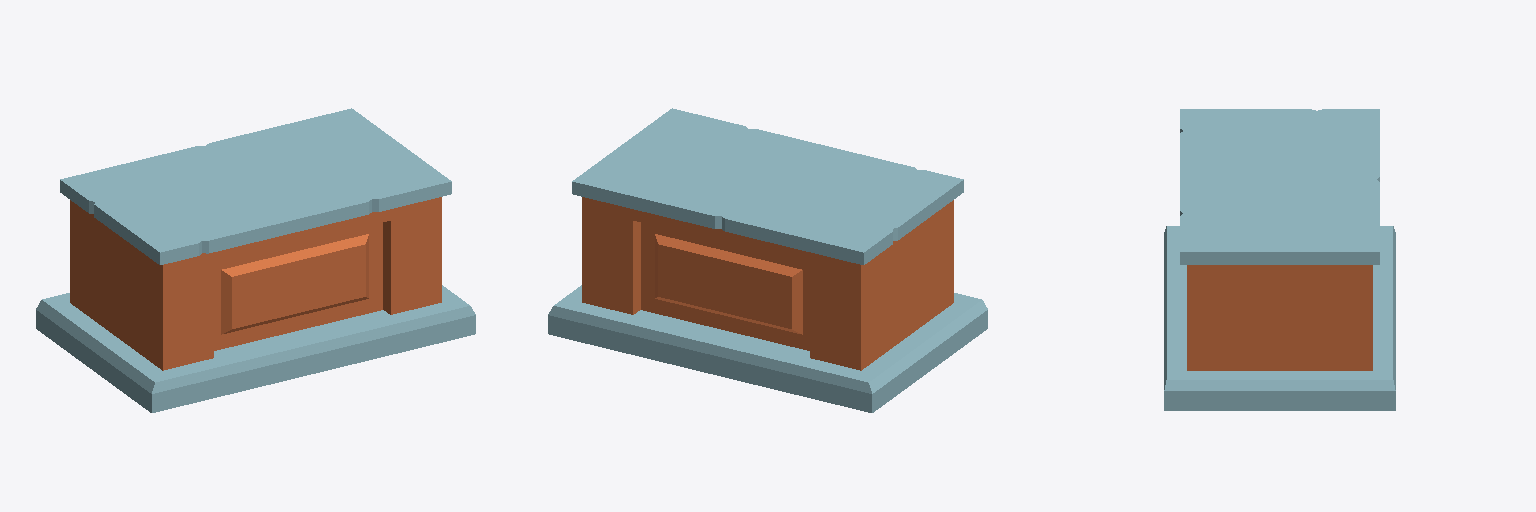
The model's file is altarWood.obj.
The picture shows the model from 3 angles: view 1: azimuth 30°, elevation 25°; view 2: azimuth 150°, elevation 25°; view 3: azimuth 270°, elevation 25°; orthographic projection.
Parts seen in each view (by area): view 1: altarWood; view 2: altarWood; view 3: altarWood.
Part boxes in pixels (x1,y1,x2,y2): altarWood: (36, 108, 475, 412); altarWood: (548, 108, 987, 412); altarWood: (1164, 109, 1395, 410).
Bounding box in the file's own units: 1.06 × 0.47 × 0.6532.